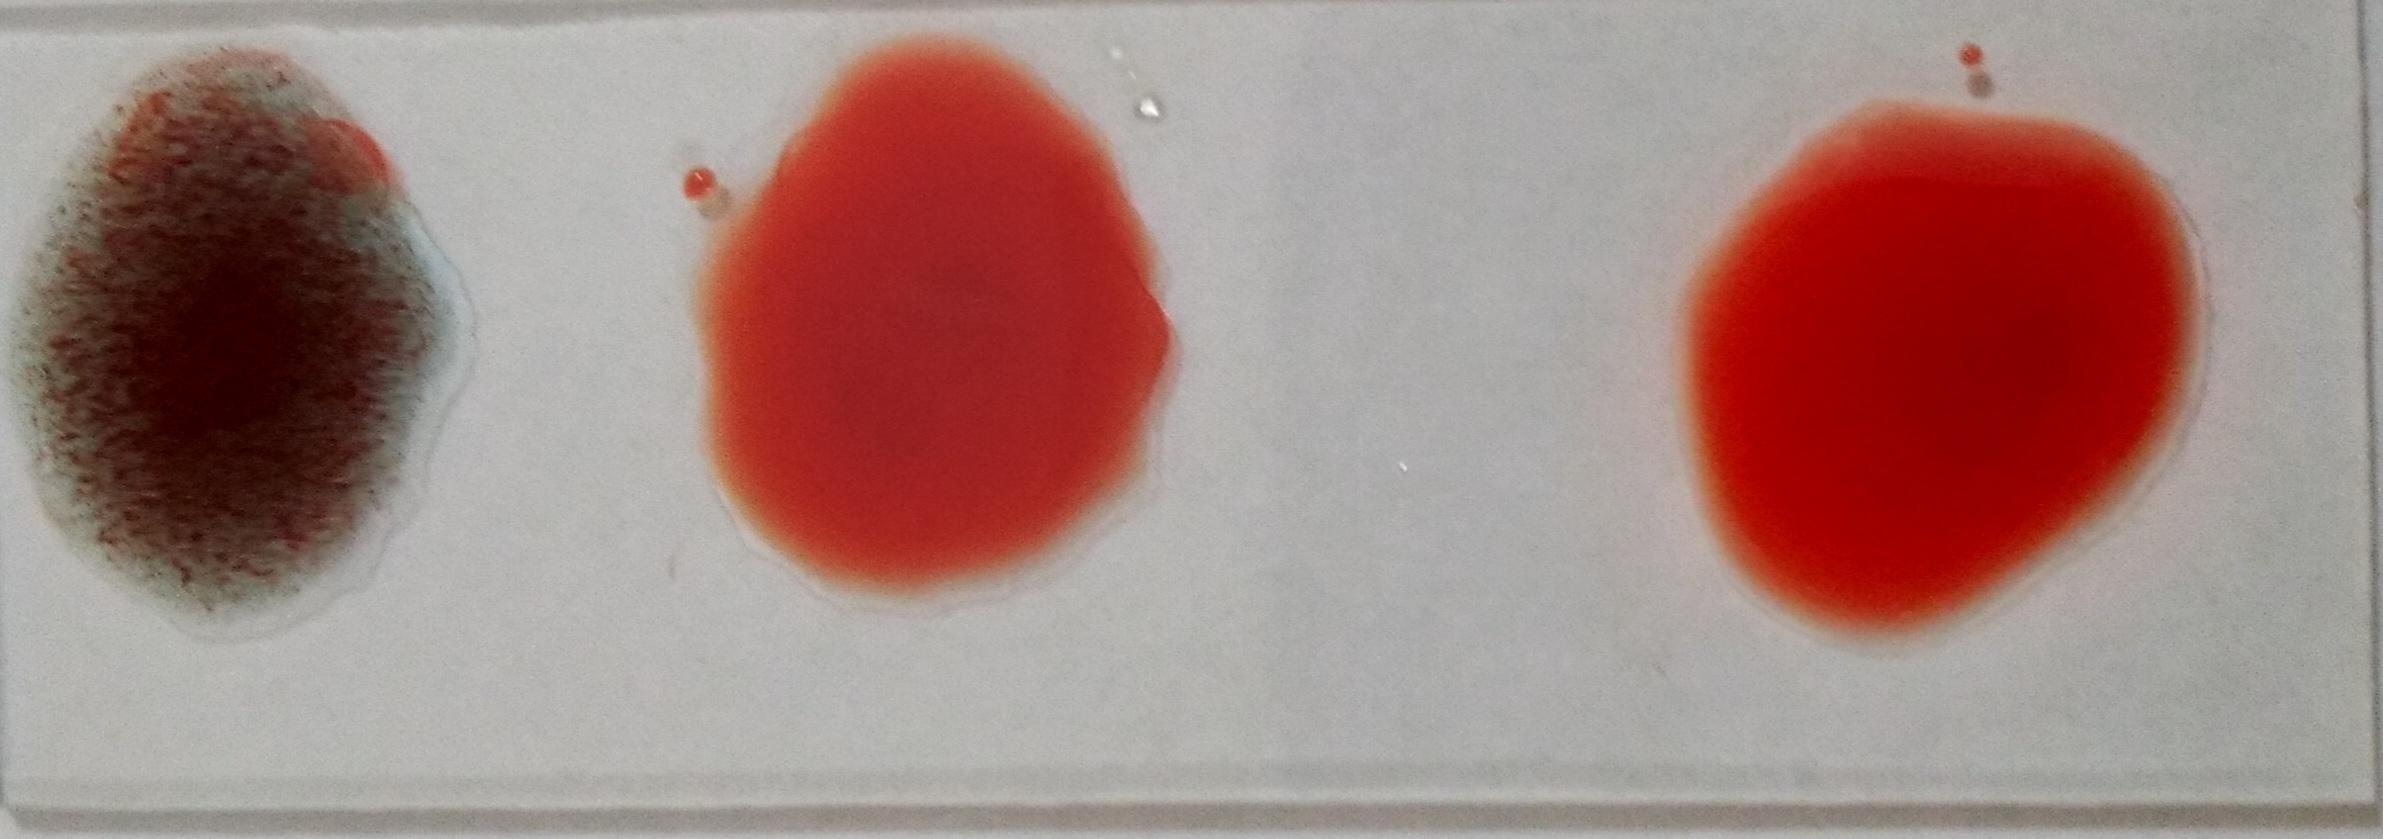A: (27, 43, 460, 620)
